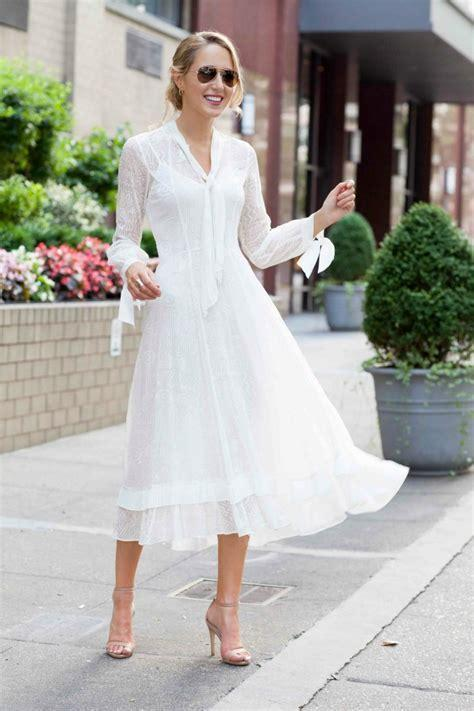dress: (107, 120, 410, 550)
